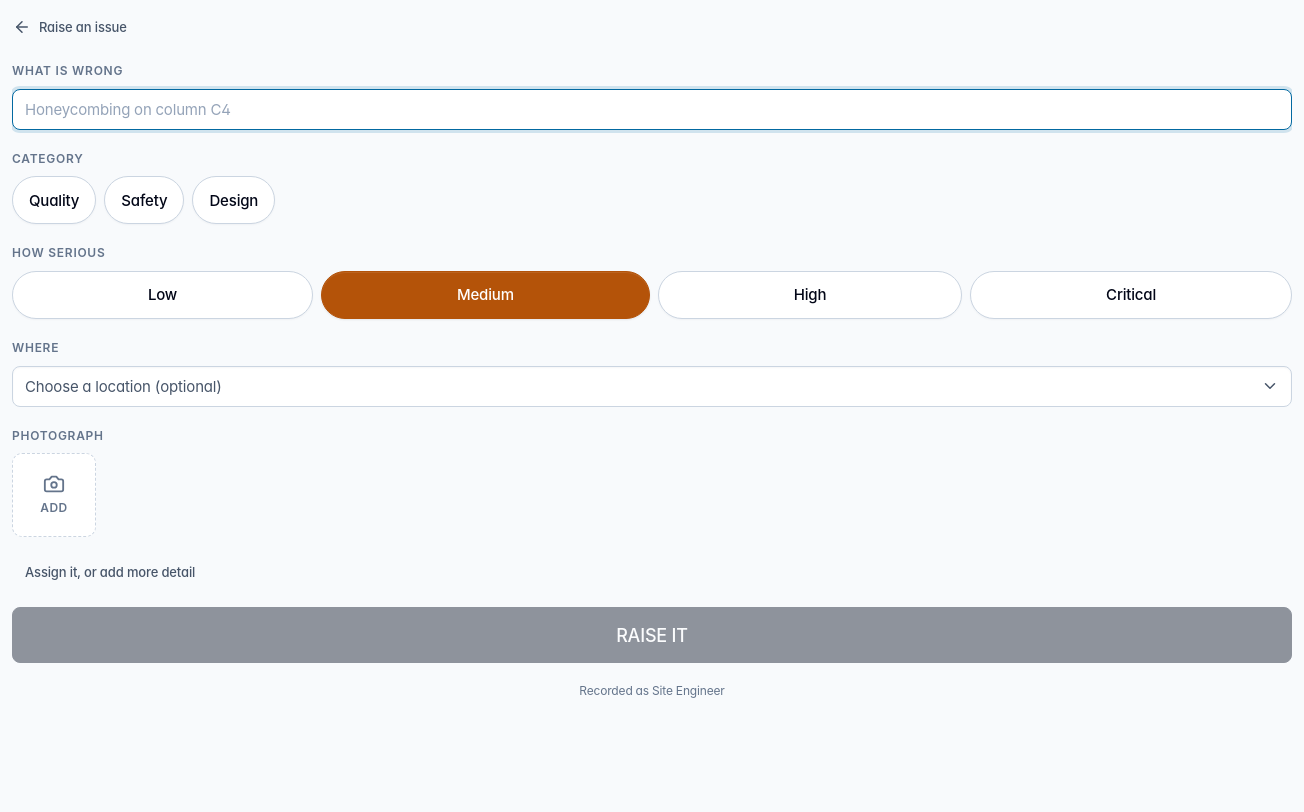
Test: S-M10 raise an issue › folds assignee, due date and description OUT of the 45 seconds
Expected: the button "Quality" is shown, [12,176,96,224]
Expected: the field labelled "Who should fix it" is not shown
Click the button "Assign it, or add more detail": x=110, y=572 [12,558,208,588]
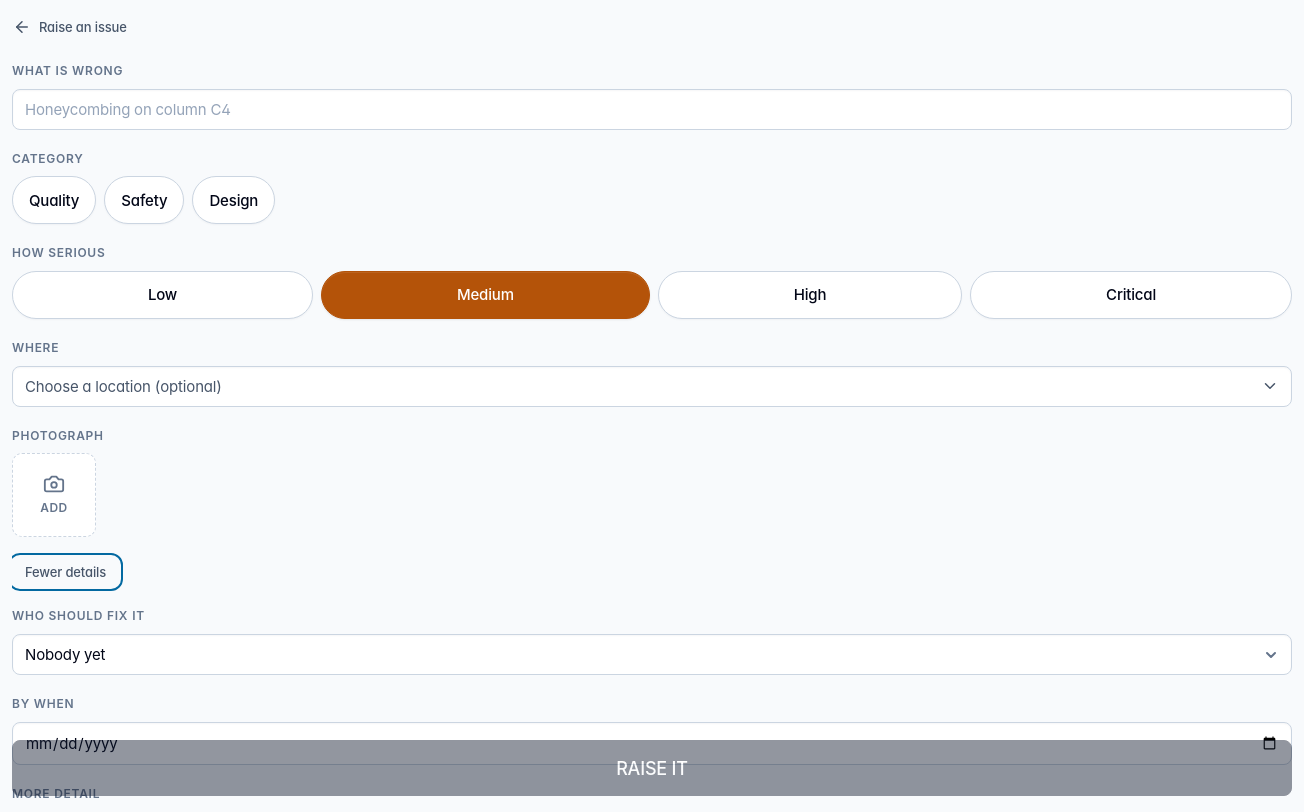
Result: the dropdown labelled "Who should fix it" is shown at [12,634,1292,675]
